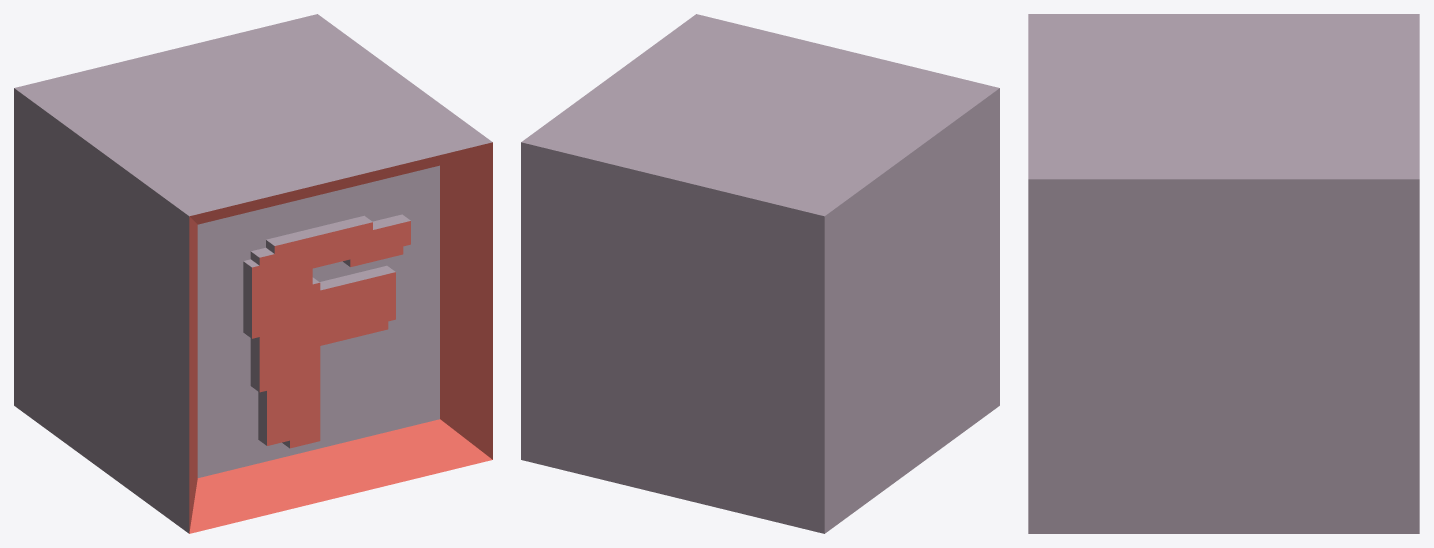
The model's file is BlockF.fbx.
3 renders of one model, left to right at view 1: azimuth 30°, elevation 25°; view 2: azimuth 150°, elevation 25°; view 3: azimuth 270°, elevation 25°, orthographic. The views are drawn at different scales.
Parts seen in each view (by area): view 1: Cube; view 2: Cube; view 3: Cube.
Part boxes in pixels (x1,y1,x2,y2): Cube: [14, 14, 492, 533]; Cube: [521, 14, 999, 533]; Cube: [1028, 14, 1419, 533].
Size of the model in its own units: 2000 by 2000 by 2000.
